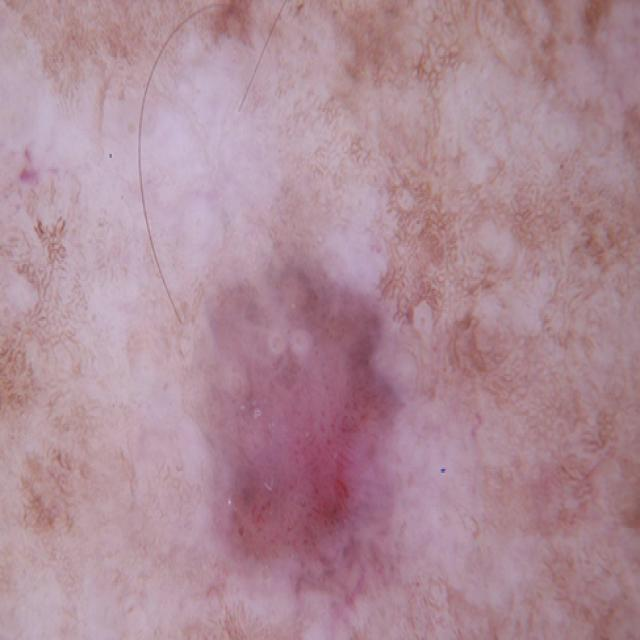Keratosis: (164, 226, 463, 640)
